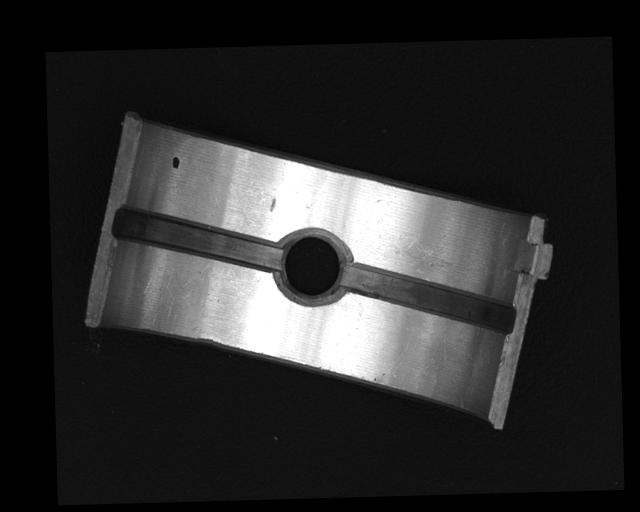blot: (170, 155, 180, 170)
bruise: (268, 196, 275, 212)
gap: (340, 258, 516, 335), (112, 202, 281, 275)
hole: (273, 226, 352, 303)
scratch: (384, 234, 466, 274)
